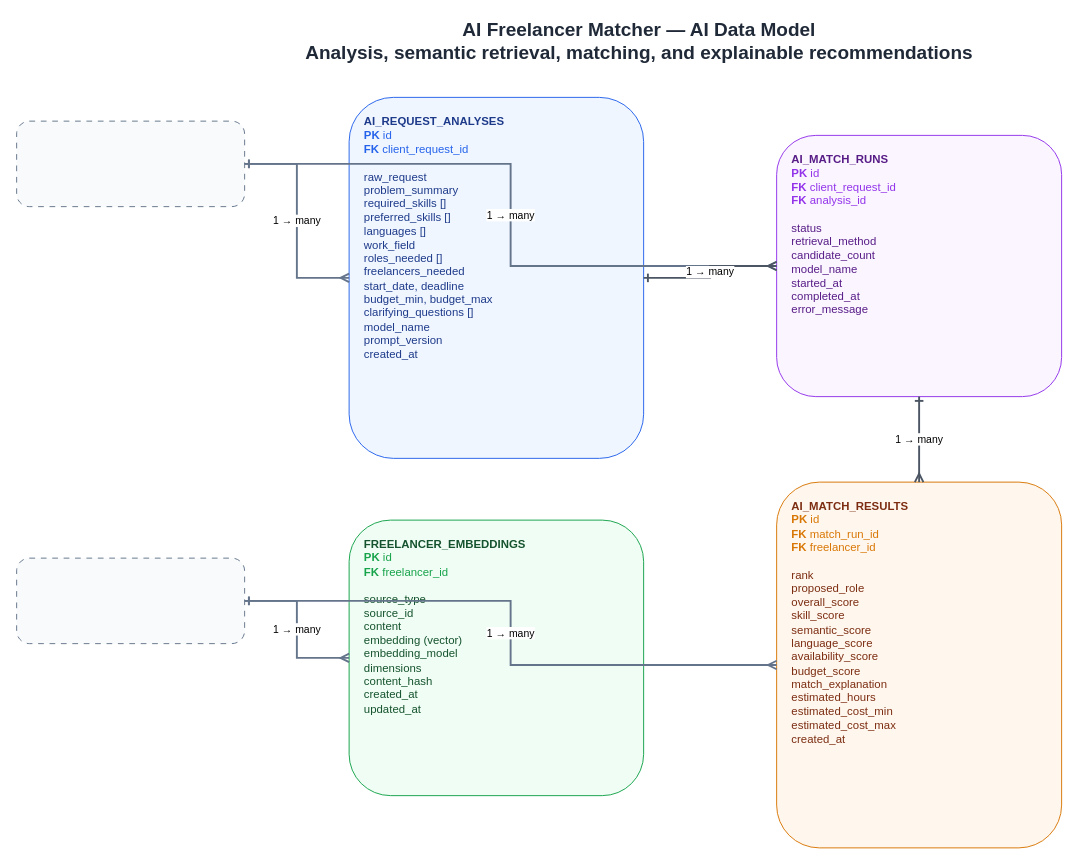
Image size: 1078x865. Some labels were removed from this diagram. Here are the shapes that lost their labels. From the top down, the centre of each, then its label:
(130,163): CLIENT_REQUESTS Client module table PK id
(130,600): FREELANCERS Freelancer module table PK id
